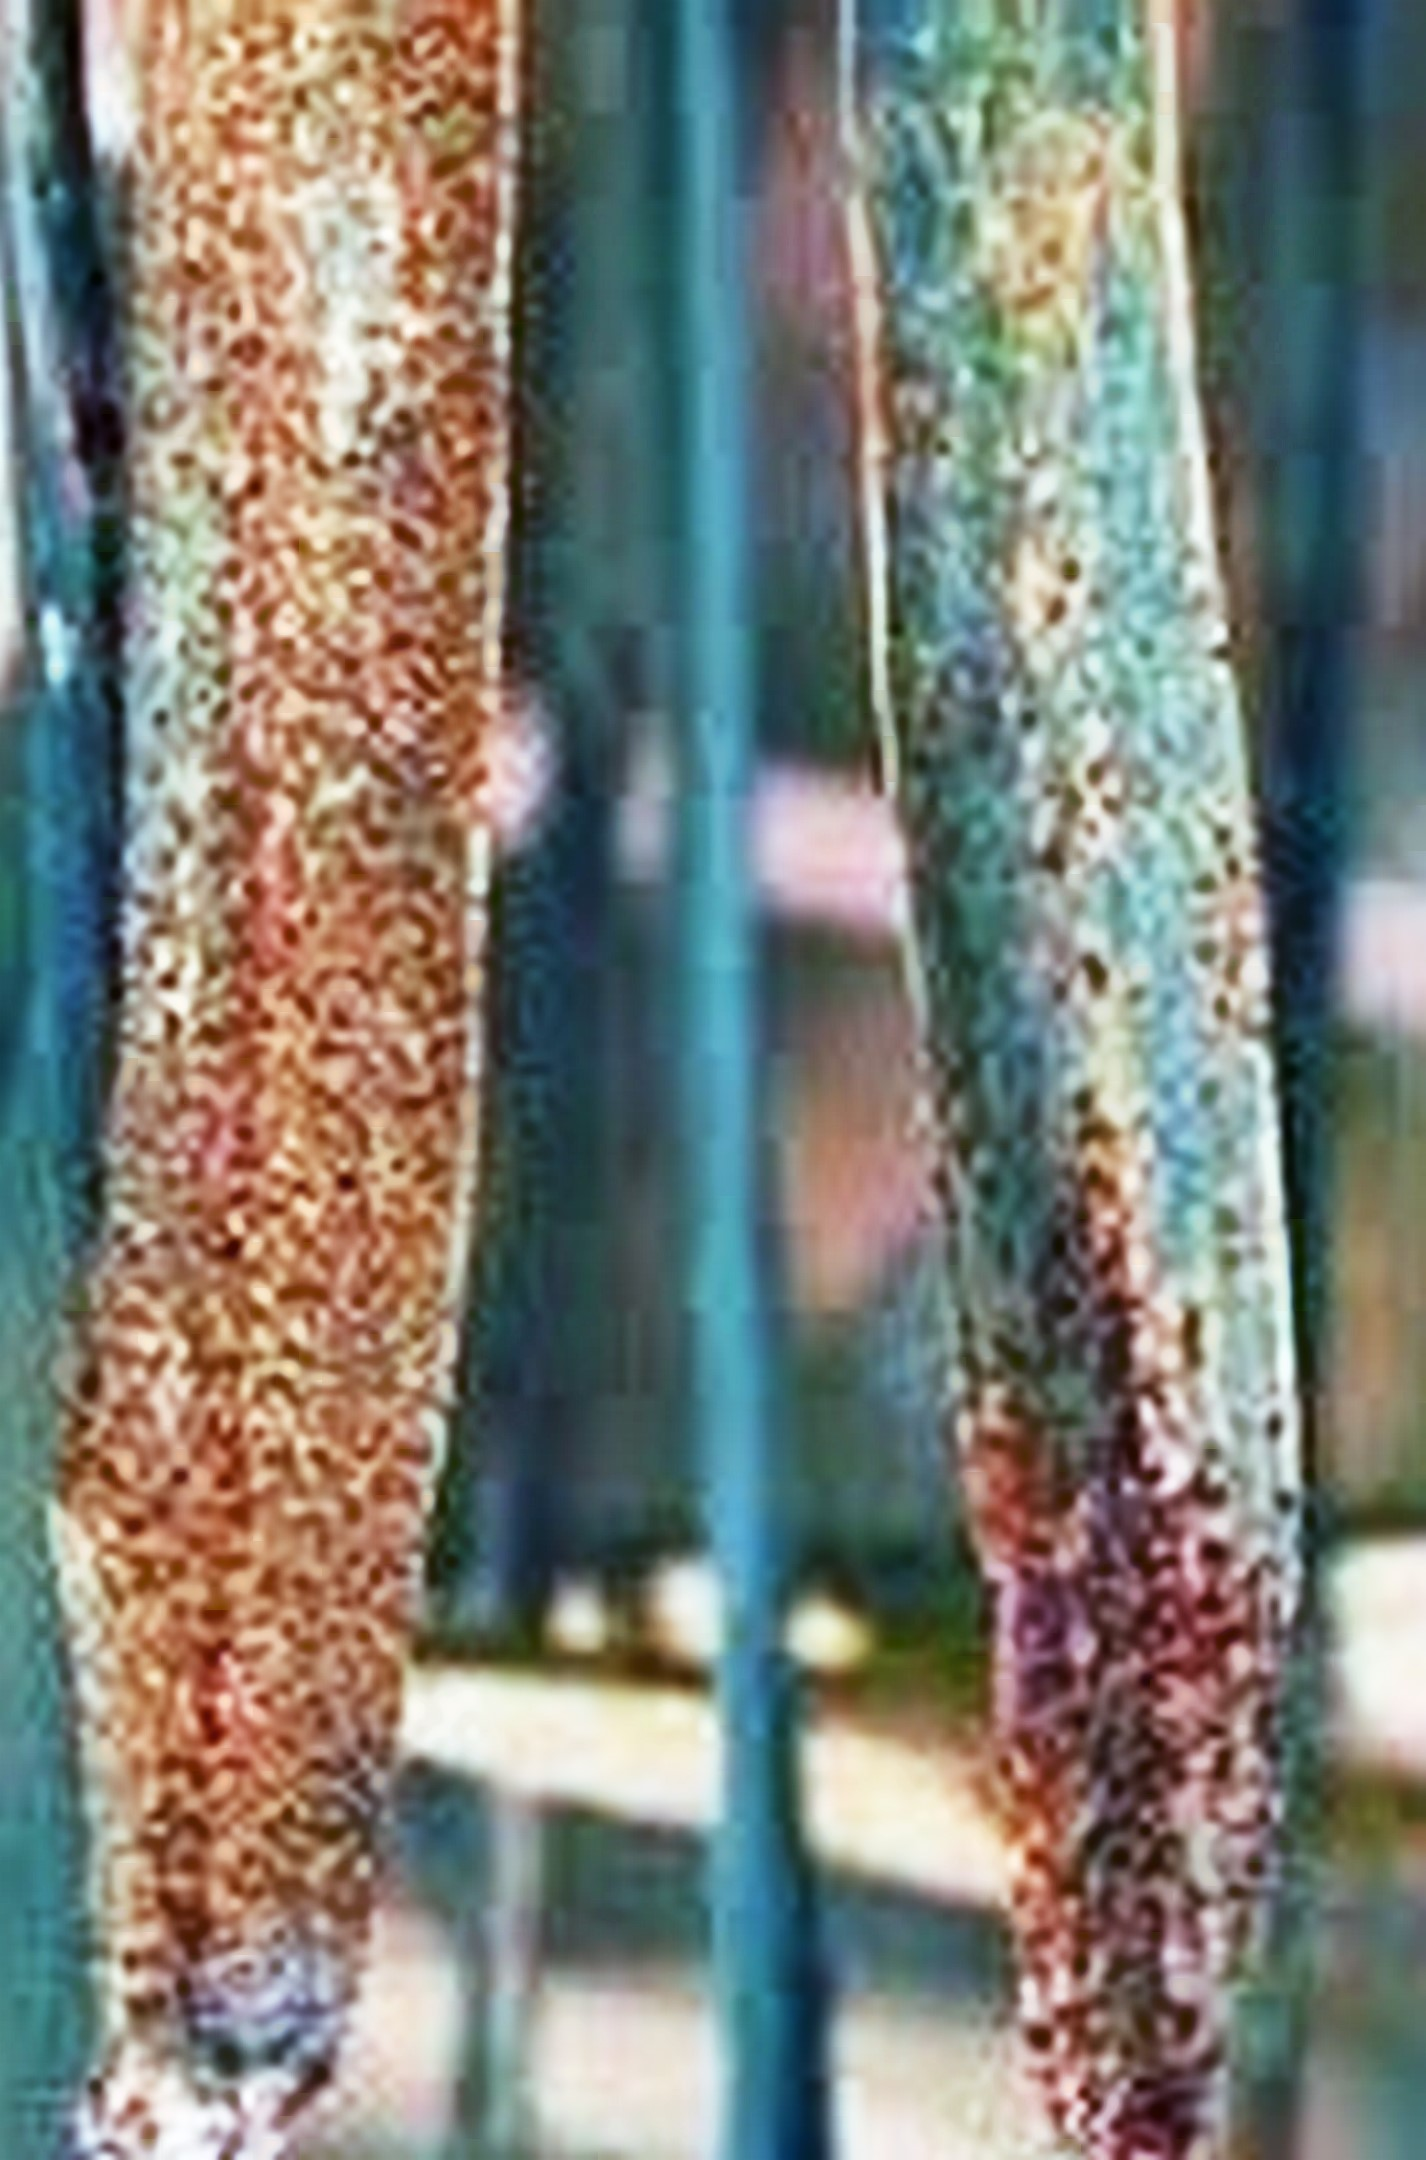Leaf Rust: (75, 170, 484, 1983)
